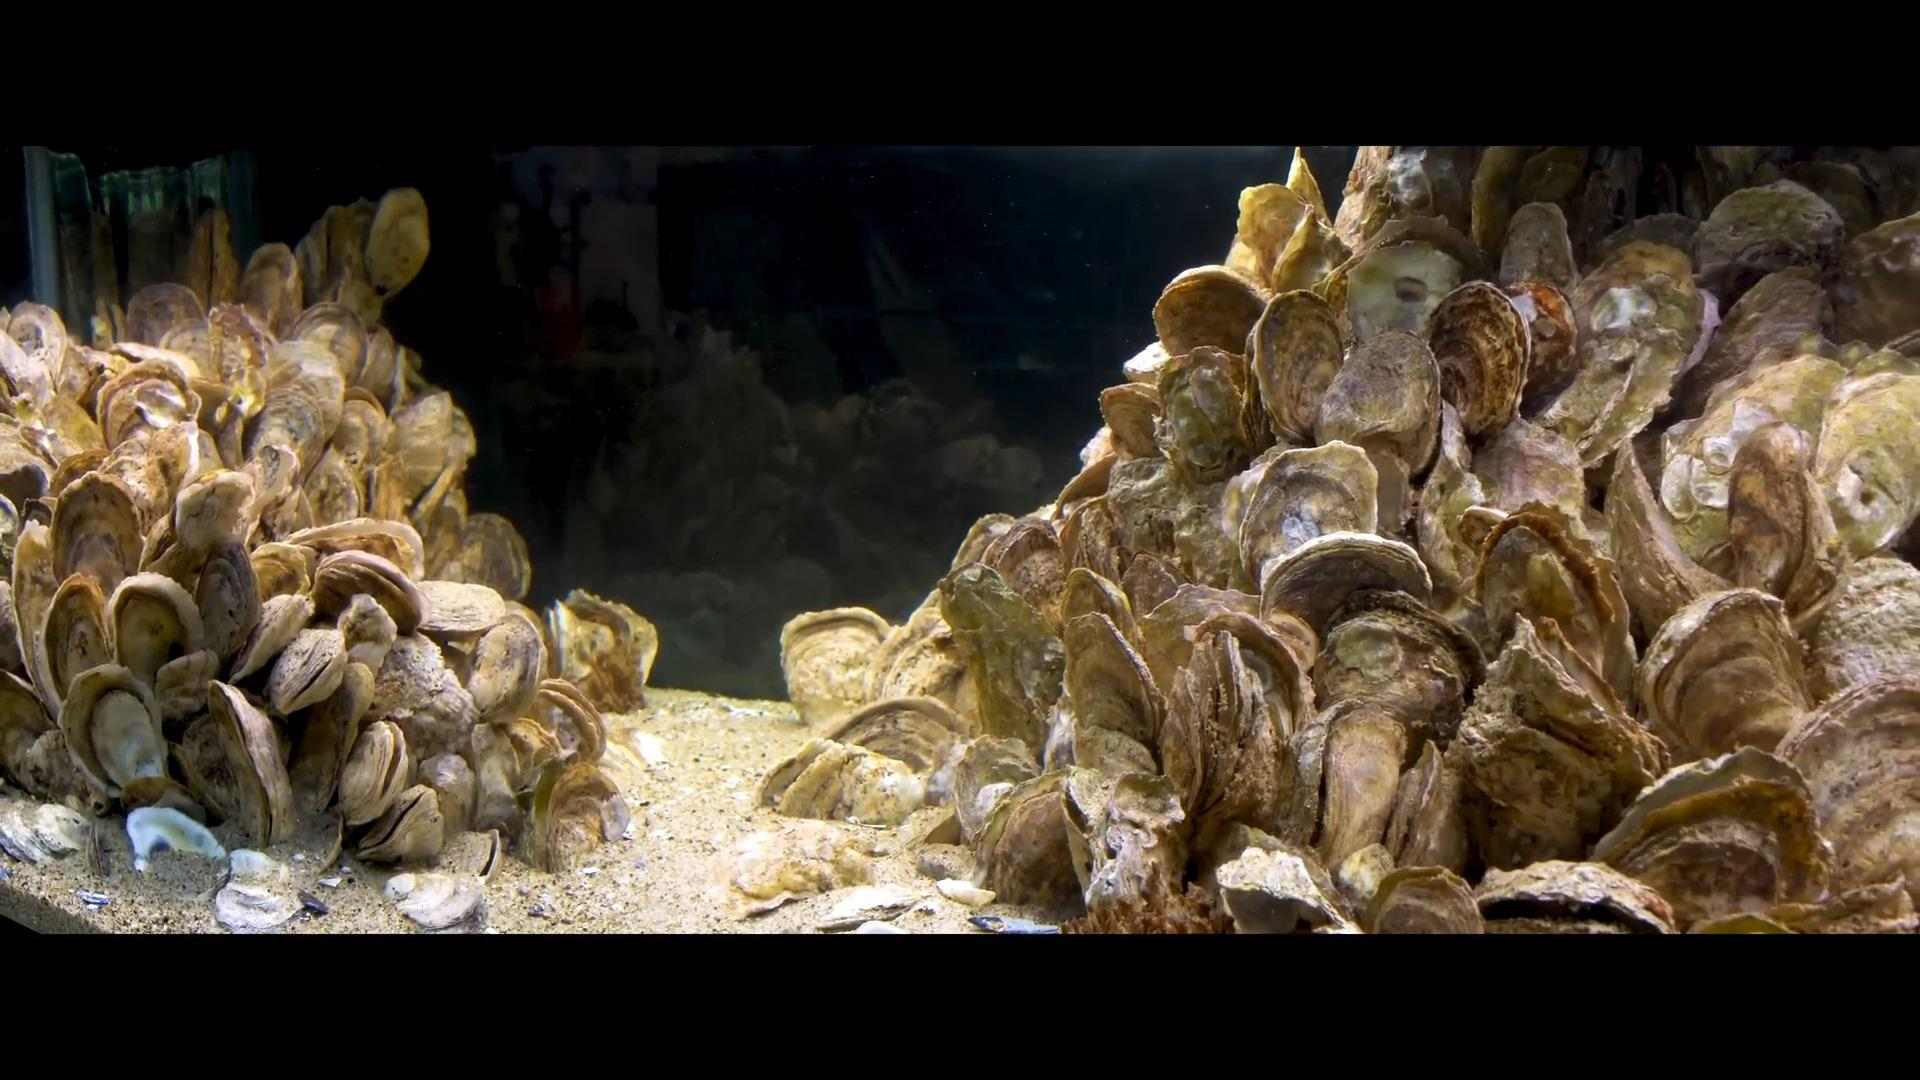Oyster: (1447, 612, 1669, 870), (1586, 745, 1824, 920), (1536, 265, 1704, 471), (1634, 585, 1816, 765), (1779, 675, 1920, 901), (1466, 501, 1627, 683), (1602, 435, 1735, 647), (1300, 589, 1480, 744), (936, 554, 1071, 754), (1677, 268, 1834, 429), (1261, 531, 1433, 662), (1102, 447, 1247, 600), (1809, 365, 1920, 556), (1183, 604, 1315, 764), (1302, 700, 1418, 881), (1311, 323, 1443, 477), (1724, 418, 1826, 615), (1240, 440, 1379, 584), (1060, 765, 1184, 926), (972, 773, 1097, 922), (1797, 558, 1919, 711), (753, 732, 932, 831), (1692, 179, 1851, 290), (1337, 223, 1478, 347), (1461, 410, 1596, 539), (719, 814, 885, 916), (1060, 596, 1164, 754), (1412, 419, 1491, 609), (1429, 285, 1530, 434), (1213, 831, 1360, 932), (542, 587, 658, 713), (1155, 344, 1258, 484), (1251, 291, 1348, 440), (62, 665, 169, 791), (1828, 210, 1920, 352), (210, 680, 287, 847), (1348, 145, 1470, 249), (239, 365, 342, 488), (1382, 736, 1468, 877), (1150, 265, 1270, 365), (1226, 167, 1321, 293), (107, 572, 202, 694), (781, 608, 889, 713), (823, 694, 964, 774), (939, 733, 1038, 847), (53, 473, 144, 596), (980, 512, 1073, 628), (369, 629, 468, 737), (539, 766, 634, 878), (876, 620, 973, 727), (94, 355, 198, 448), (385, 382, 465, 501), (465, 608, 547, 723), (1361, 864, 1489, 936), (285, 690, 352, 825), (318, 551, 422, 636), (9, 520, 59, 694), (45, 572, 111, 702), (193, 541, 261, 665), (1501, 280, 1575, 394), (1571, 145, 1643, 261), (225, 589, 315, 683), (169, 463, 257, 558), (1494, 199, 1578, 298), (278, 299, 368, 390), (285, 517, 421, 575), (1064, 492, 1137, 597), (1778, 158, 1874, 236), (0, 663, 57, 793), (451, 510, 531, 601), (1589, 212, 1700, 278), (401, 578, 510, 644), (382, 869, 491, 935), (128, 417, 208, 505), (365, 189, 430, 298), (355, 785, 443, 864), (530, 678, 605, 769), (343, 719, 407, 820), (272, 630, 348, 716), (124, 278, 210, 355), (1095, 377, 1167, 464), (25, 388, 104, 467), (185, 204, 240, 316), (237, 239, 301, 336), (469, 735, 530, 835), (334, 589, 400, 680), (0, 413, 55, 521), (117, 774, 210, 839), (414, 749, 476, 840), (212, 877, 307, 935), (15, 727, 82, 808), (237, 440, 302, 524), (4, 299, 73, 375), (1048, 444, 1117, 518), (413, 481, 467, 571), (1284, 148, 1335, 237), (88, 812, 129, 876), (476, 829, 504, 880)
